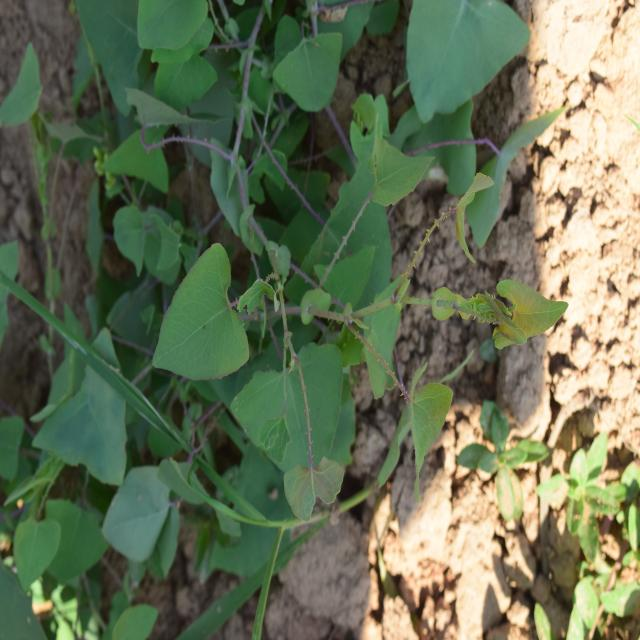Asiatic_Smartweed: (167, 248, 449, 510)
